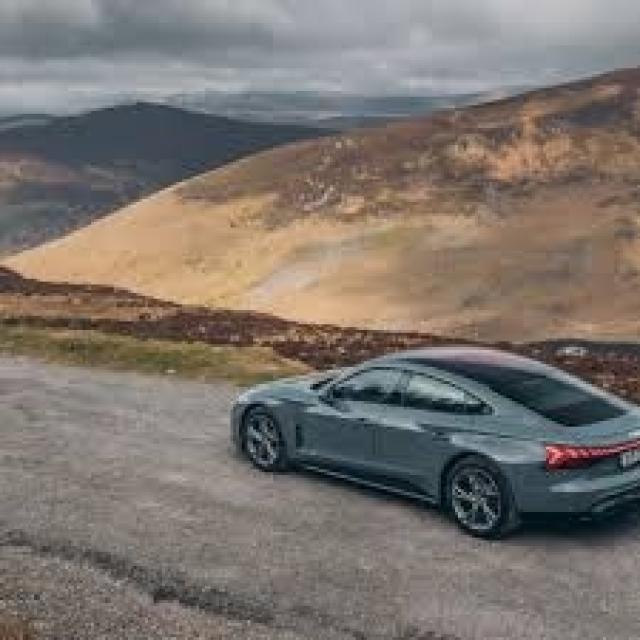black: (233, 353, 640, 532)
